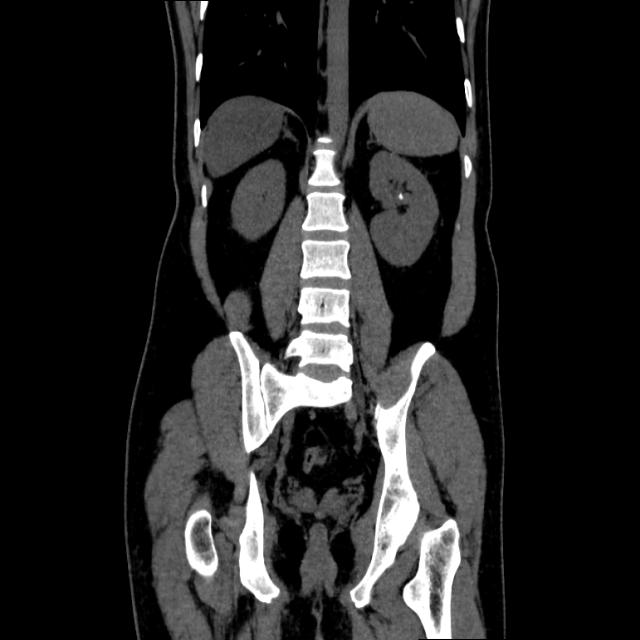kidneystone: (398, 193, 404, 200)
